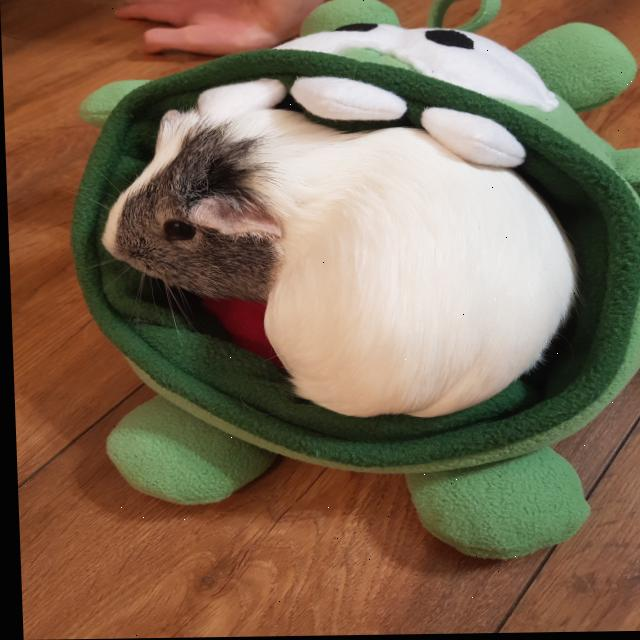guinea pig: (92, 99, 584, 426)
